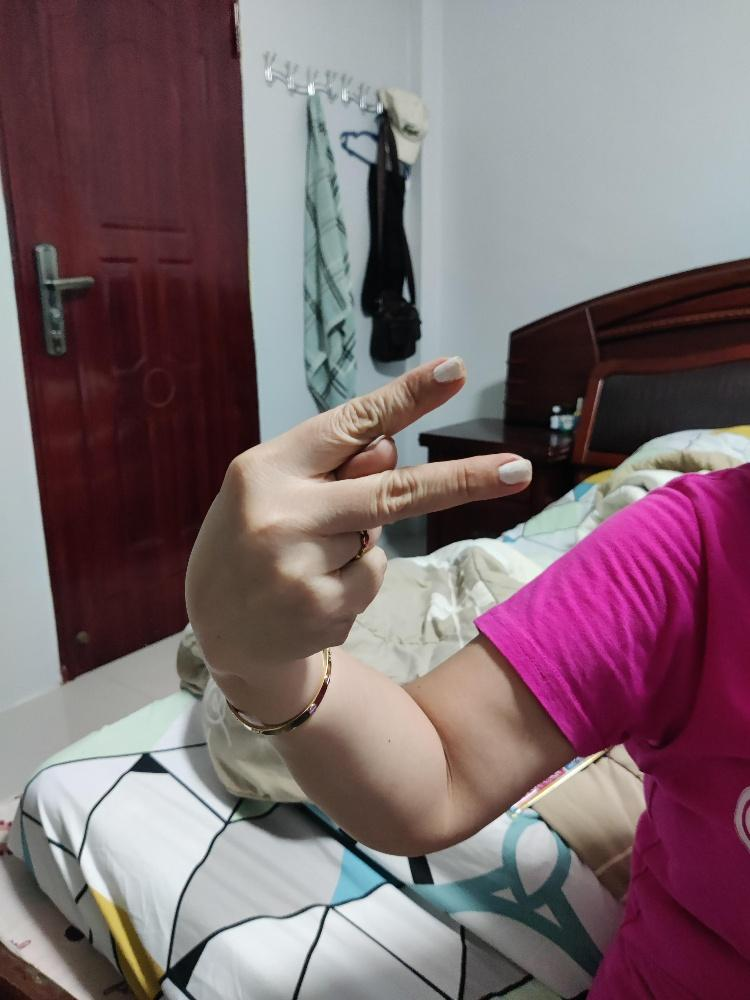k: (181, 351, 534, 665)
